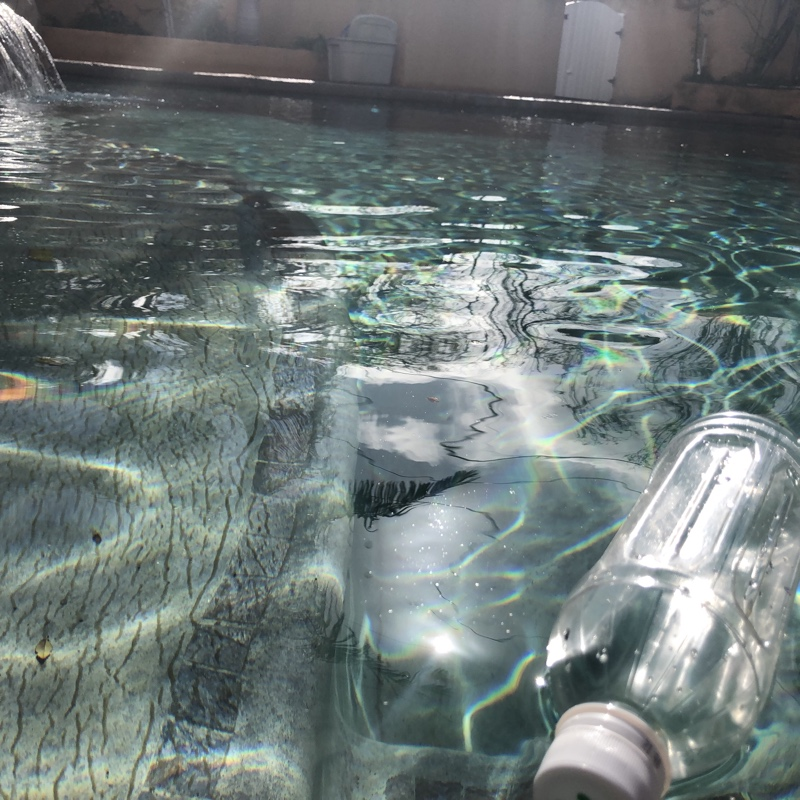Plastic Bottle: (523, 406, 800, 799)
